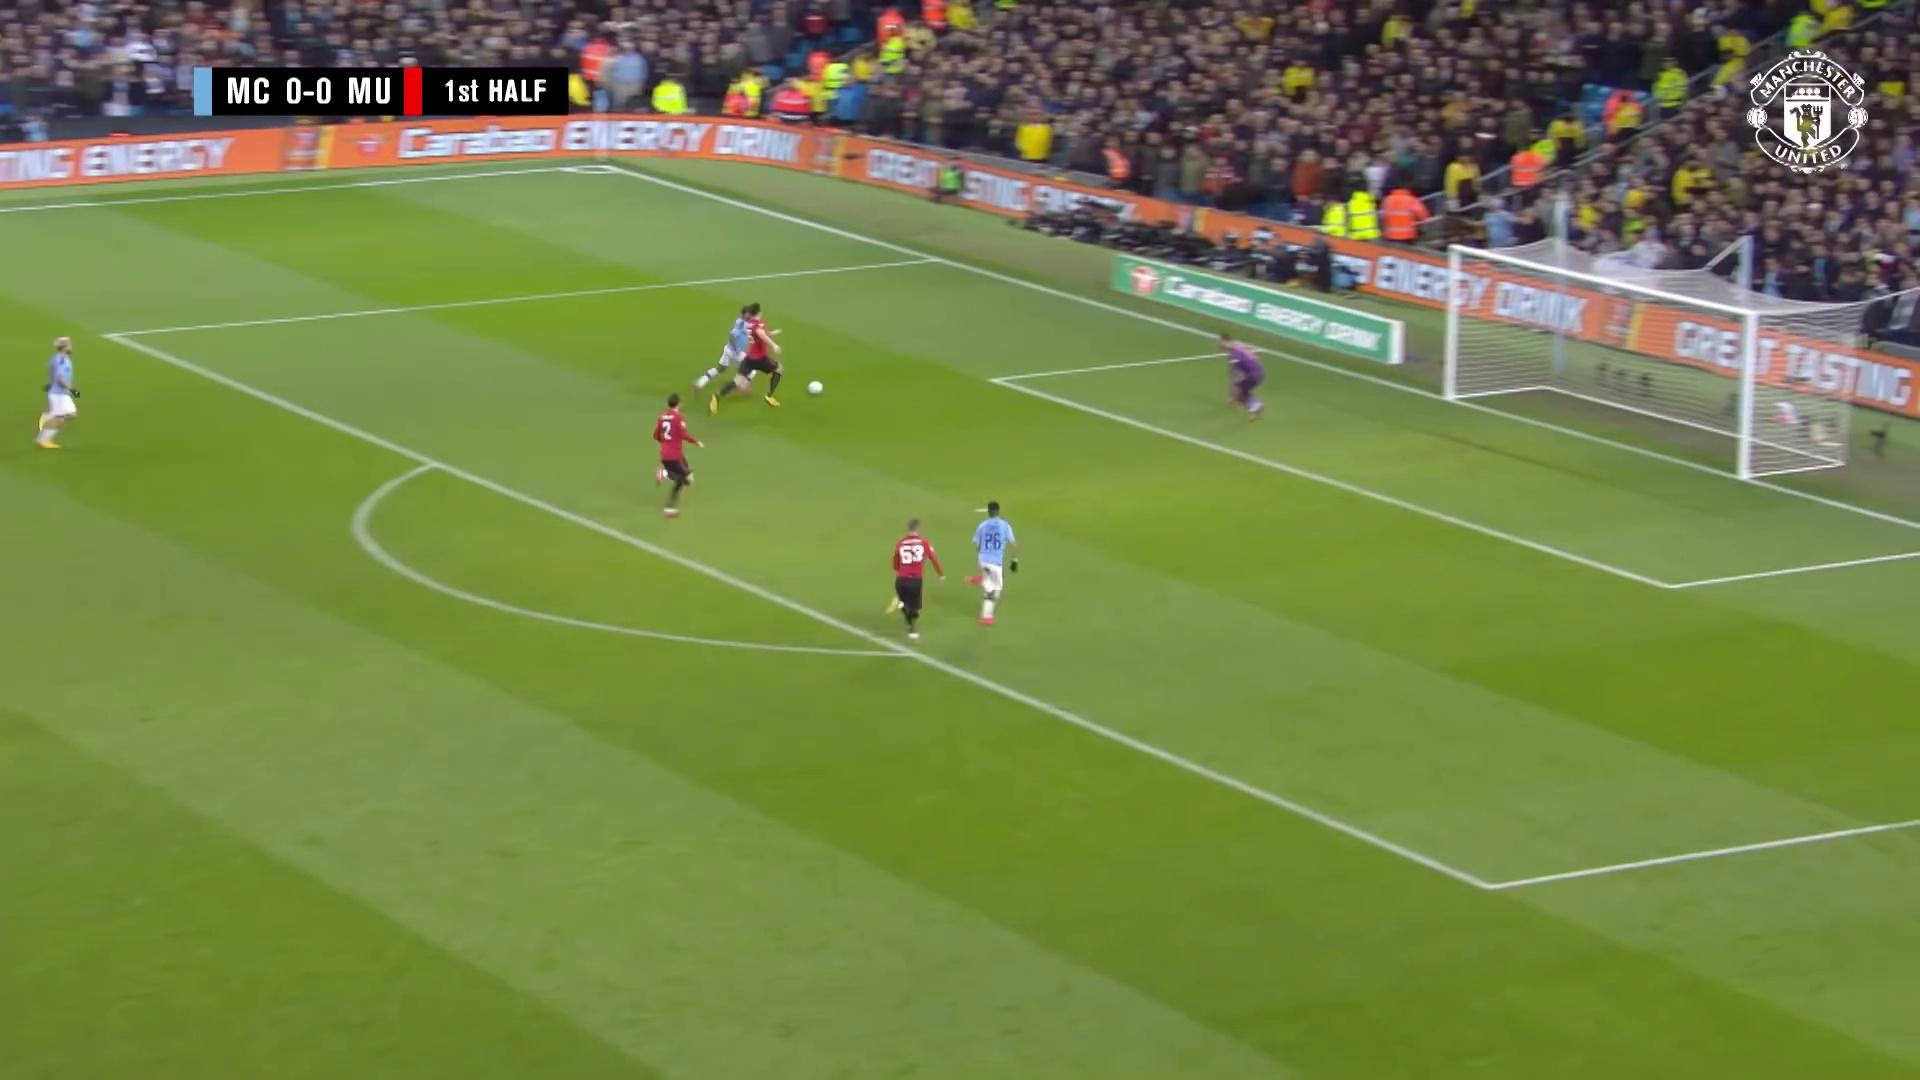ball: (806, 378, 824, 397)
